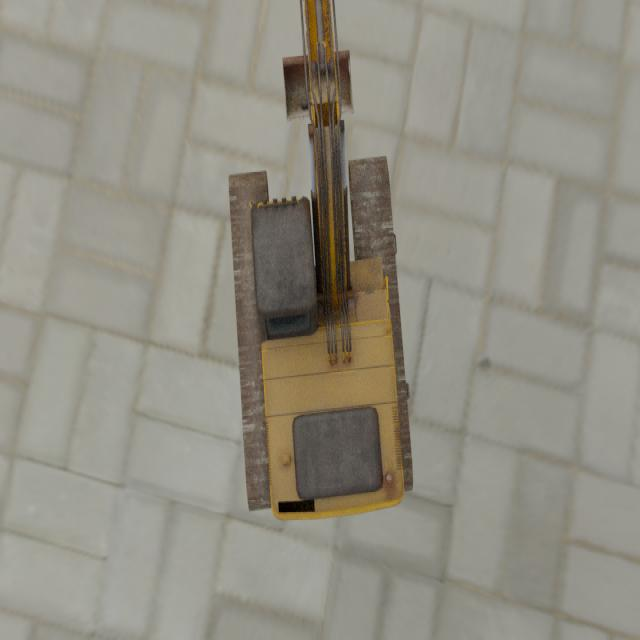excavator: (228, 0, 413, 521)
